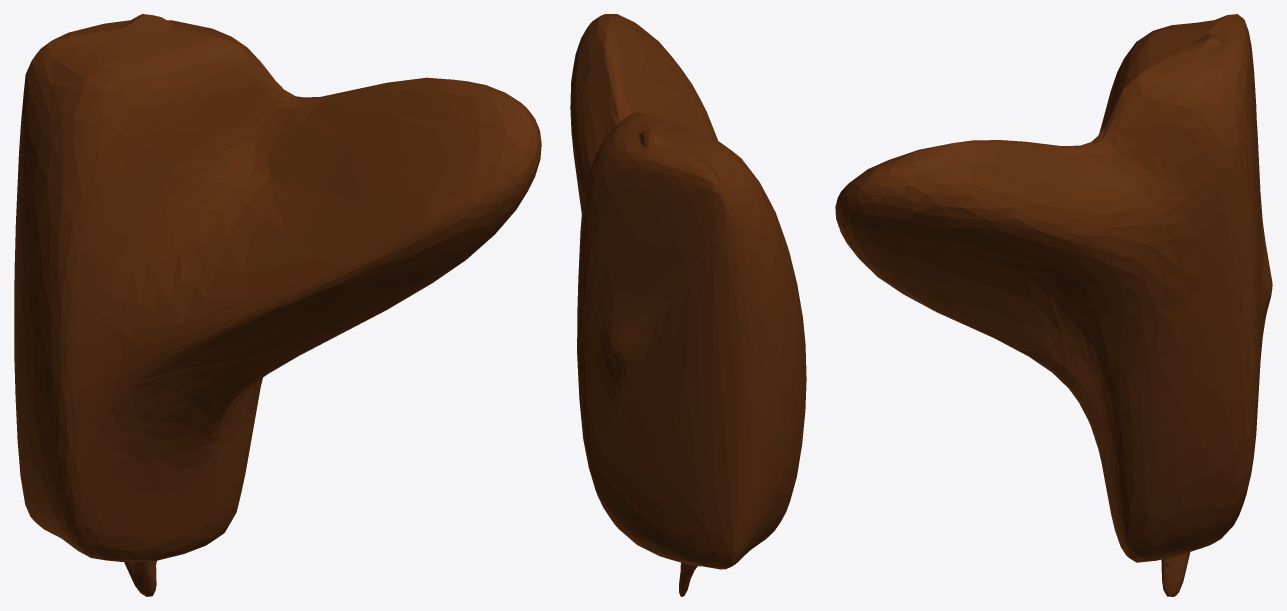
3 views of the same model, side by side, from view 1: azimuth 30°, elevation 25°; view 2: azimuth 150°, elevation 25°; view 3: azimuth 270°, elevation 25° (orthographic). The views are drawn at different scales.
Visible parts, largest first — view 1: 094_Cube.391; view 2: 094_Cube.391; view 3: 094_Cube.391.
Boxes of the visible parts, left/top/right/bottom form: 094_Cube.391: left=14, top=14, right=541, bottom=596; 094_Cube.391: left=570, top=14, right=806, bottom=596; 094_Cube.391: left=835, top=14, right=1272, bottom=596.
Bounding box in the file's own units: 9.34 × 13.57 × 9.47.
